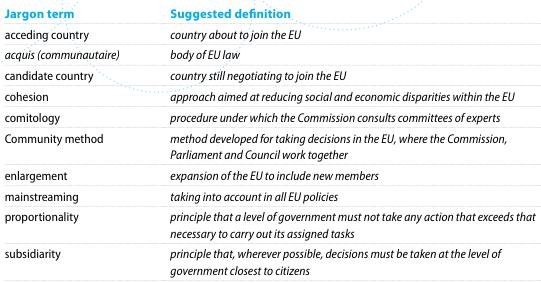table: (3, 4, 534, 276)
table column: (144, 4, 534, 276), (3, 4, 144, 276)
table column header: (3, 4, 534, 22)
table row: (3, 126, 534, 163), (3, 205, 534, 242), (3, 242, 534, 276), (3, 22, 534, 43), (3, 43, 534, 64), (3, 64, 534, 85), (3, 85, 534, 106), (3, 163, 534, 184), (3, 184, 534, 205), (3, 106, 534, 126), (3, 4, 534, 22)
